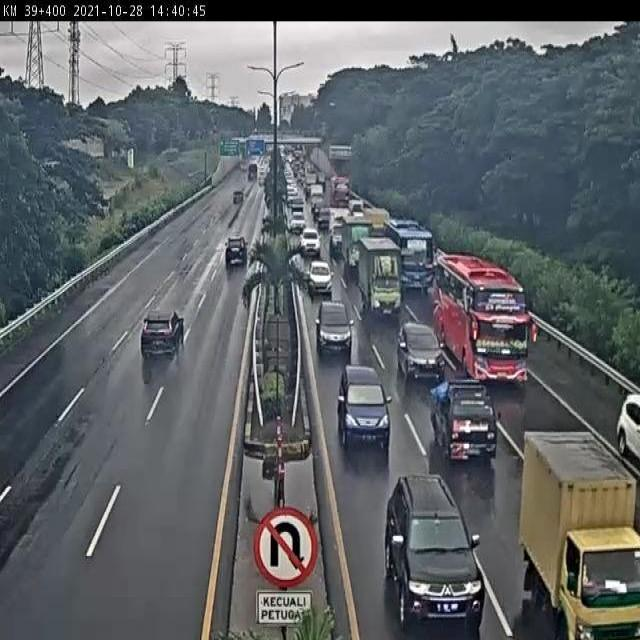big bus: (430, 249, 529, 387), (382, 218, 431, 290)
car: (385, 476, 486, 629), (429, 375, 499, 461), (337, 363, 392, 448), (397, 320, 447, 383), (314, 298, 354, 354), (306, 259, 334, 300), (223, 233, 250, 268)
mid truck: (356, 237, 399, 315), (140, 308, 185, 360)
